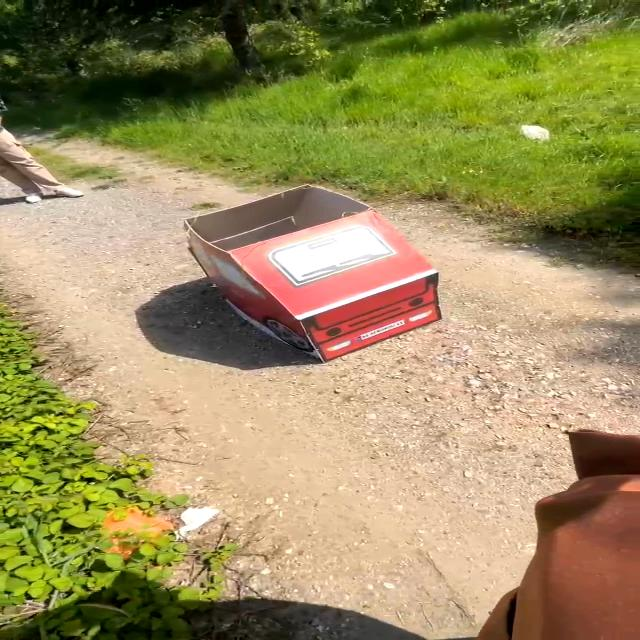red_car: (155, 159, 449, 387)
